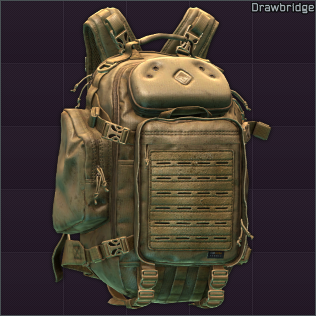Hazard 4 Drawbridge backpack: (0, 0, 316, 316)
